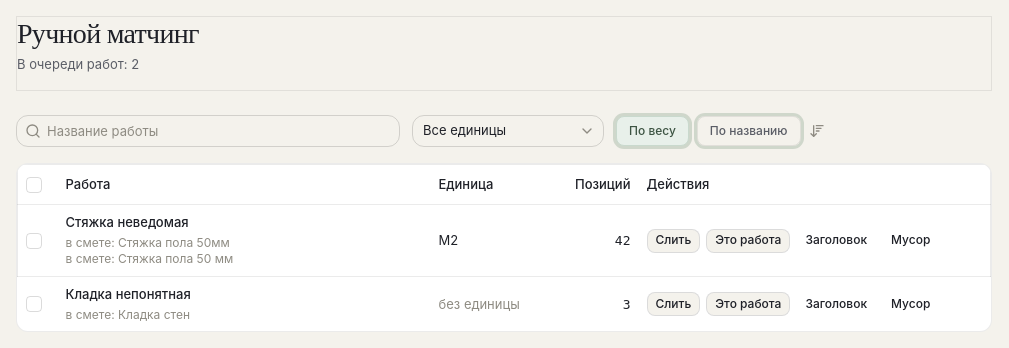
Test: Экран «Ручной матчинг» (§7.2) › сортировка по названию меняет порядок
expect the text "Стяжка неведомая" is shown: met, box [66, 214, 189, 230]
Click the button "По названию": {"x": 749, "y": 131} [697, 116, 801, 146]
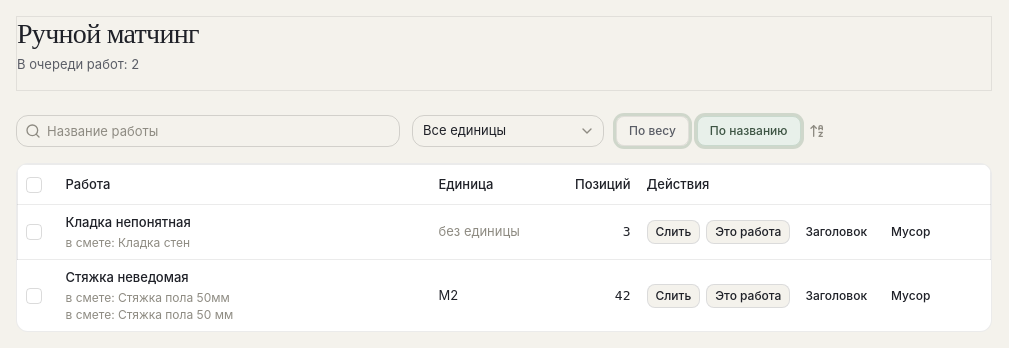
expect the text "Кладка непонятная" is shown: met, box [66, 214, 191, 230]
